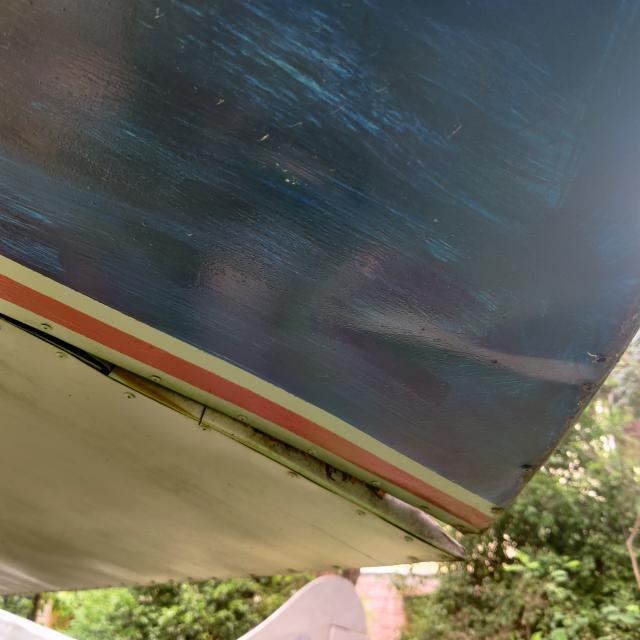dent: (303, 258, 634, 433)
